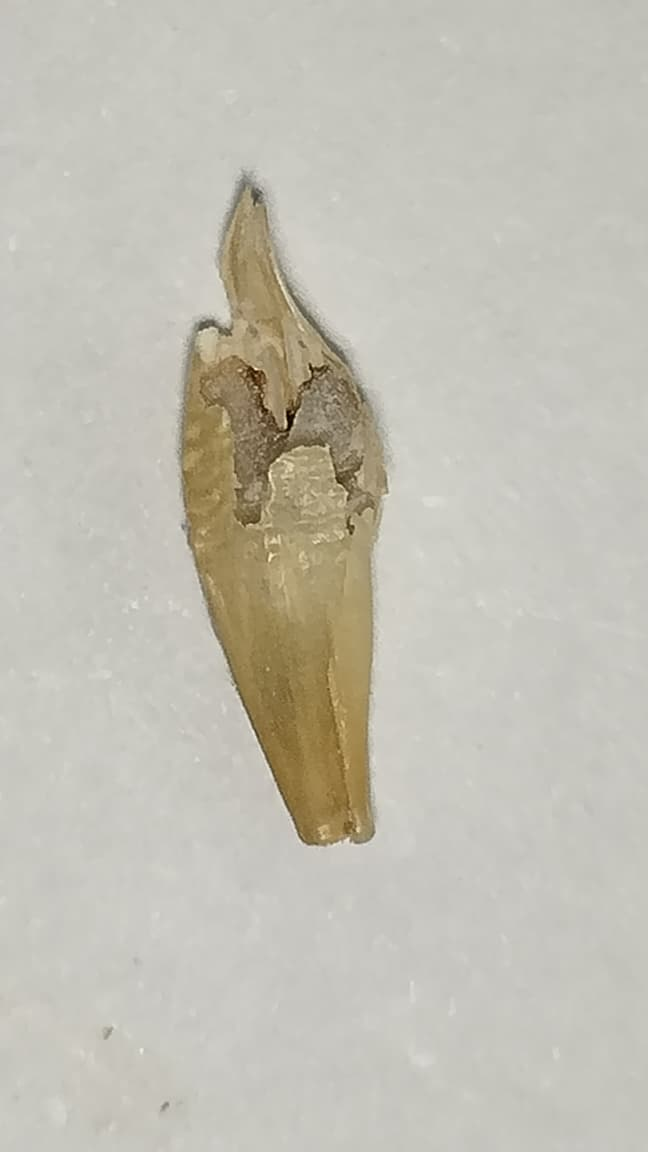damage: (182, 186, 377, 844)
insectdamage: (194, 323, 388, 538)
